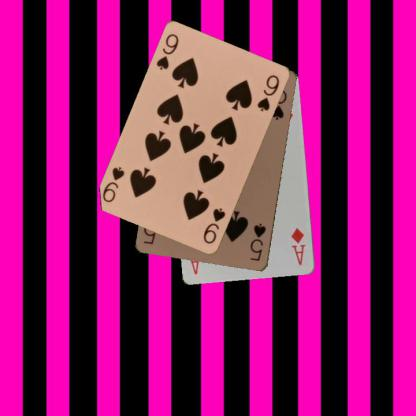5s: (247, 222, 268, 262)
9s: (201, 205, 227, 246), (154, 31, 180, 72)
Ad: (289, 225, 307, 267)
